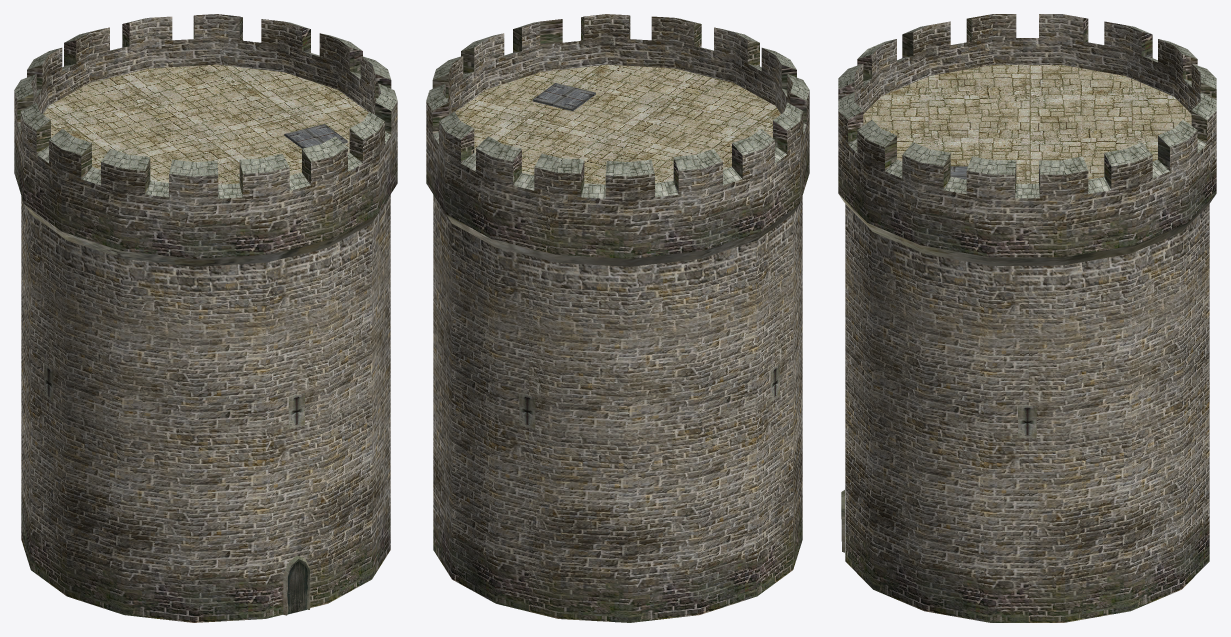
Rendered from building_tower_great.glb.
3 views of the same model, side by side, from view 1: azimuth 30°, elevation 25°; view 2: azimuth 150°, elevation 25°; view 3: azimuth 270°, elevation 25° (orthographic).
Visible parts, largest first — view 1: building_tower_great; view 2: building_tower_great; view 3: building_tower_great.
Boxes of the visible parts, bbox=[...] form: building_tower_great: bbox=[14, 14, 397, 622]; building_tower_great: bbox=[426, 14, 809, 622]; building_tower_great: bbox=[838, 14, 1216, 622].
Bounding box in the file's own units: 14.9 × 19.93 × 14.9.
Materials: 4 (4 with a texture image).
